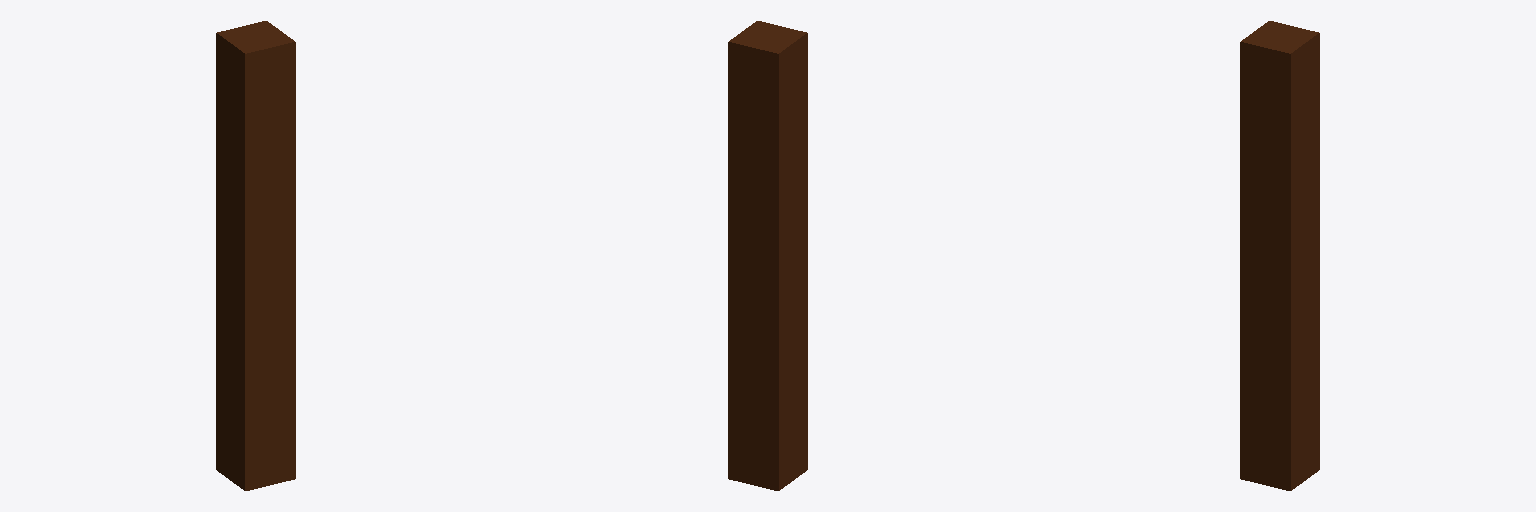
robot.urdf — tree_mid_wide:
<?xml version="1.0" ?>
<robot name="tree_mid_wide">
    <link name="block">
    <inertial>
      <origin xyz="0 0 0" rpy="0 0 0"/>
      <mass value="0.0"/>
      <inertia ixx="1" ixy="0" ixz="0" iyy="1" iyz="0" izz="1"/>
    </inertial>
    <!-- Visual representation of the cube (0.3m x 0.3m x 0.3m) -->
    <visual>
      <origin xyz="0 0 0" rpy="0 0 0"/>
      <geometry>
        <box size="0.6 0.6 5.0"/>
      </geometry>
      <material name="brown">
        <color rgba="0.35 0.20 0.10 1.0"/>
      </material>
    </visual>
    <!-- Collision representation of the cube (0.3m x 0.3m x 0.3m) -->
    <collision>
      <origin xyz="0 0 0" rpy="0 0 0"/>
      <geometry>
        <box size="0.6 0.6 5.0"/>
      </geometry>
    </collision>    
    <!-- Contact properties (optional, e.g., friction) --> 
    <contact>
      <lateral_friction value="1.0"/>
      <rolling_friction value="0.0"/>
      <restitution value="0.0"/>
    </contact>
  </link>
</robot>  

--- Render facts (derived) ---
3 views of the same robot in one strip: view 1: azimuth 30°, elevation 25°; view 2: azimuth 150°, elevation 25°; view 3: azimuth 330°, elevation 25° (orthographic).
Robot: tree_mid_wide — 1 links, 0 joints (none); root link block; default pose: all joints at 0.
Visible links, largest first — view 1: block; view 2: block; view 3: block.
Boxes of the visible links, x1=… form: block: x1=216, y1=21, x2=295, y2=490; block: x1=728, y1=21, x2=807, y2=490; block: x1=1240, y1=21, x2=1319, y2=490.
Size in the robot's own frame: 0.6 by 0.6 by 5 metres.
Geometry: primitives only (box / cylinder / sphere), no mesh files.
